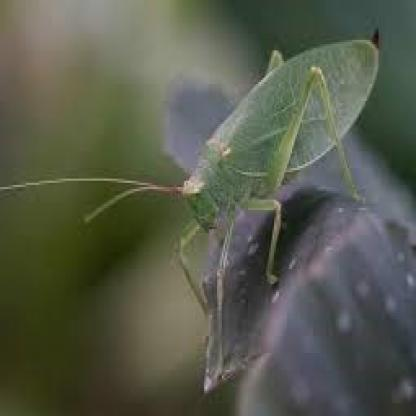grasshopper: (0, 41, 391, 300)
